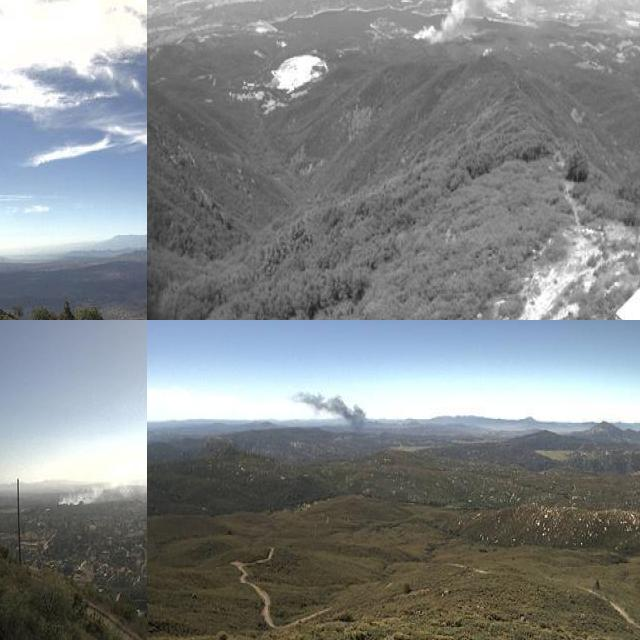smoke: (404, 0, 631, 47), (56, 450, 147, 530), (285, 384, 371, 438)
